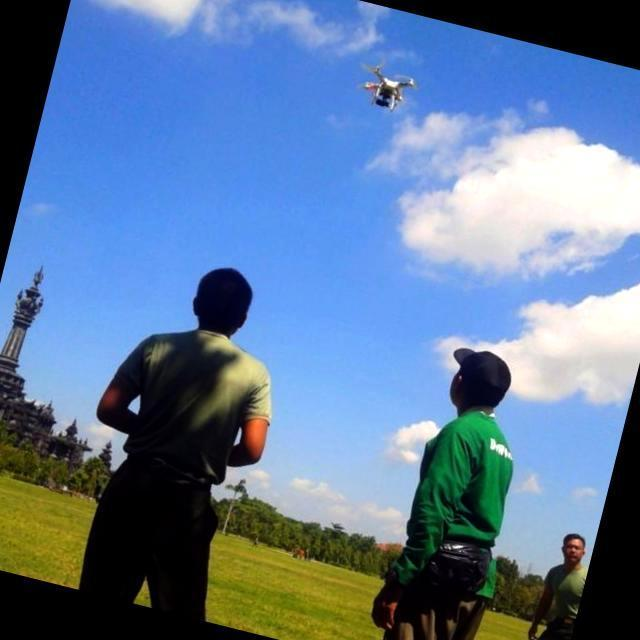drone: (356, 56, 420, 115)
